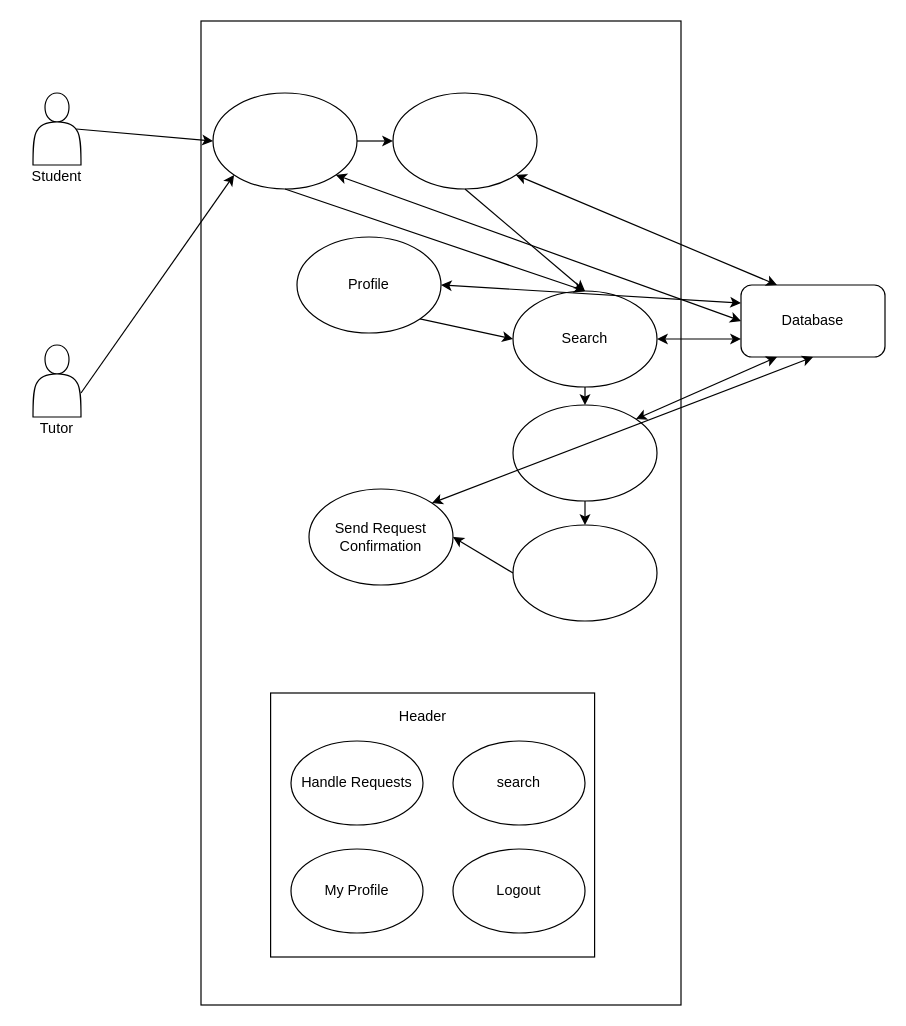
This 906x1026 diagram has some shape labels left out. Here are the shapes that lost their labels. From the top down, the centre of each, then its label:
At (284,140): "Login".
At (464,140): "Sign Up".
At (584,452): "Tutor's Profile (restricted view)".
At (584,572): "Send Request".
